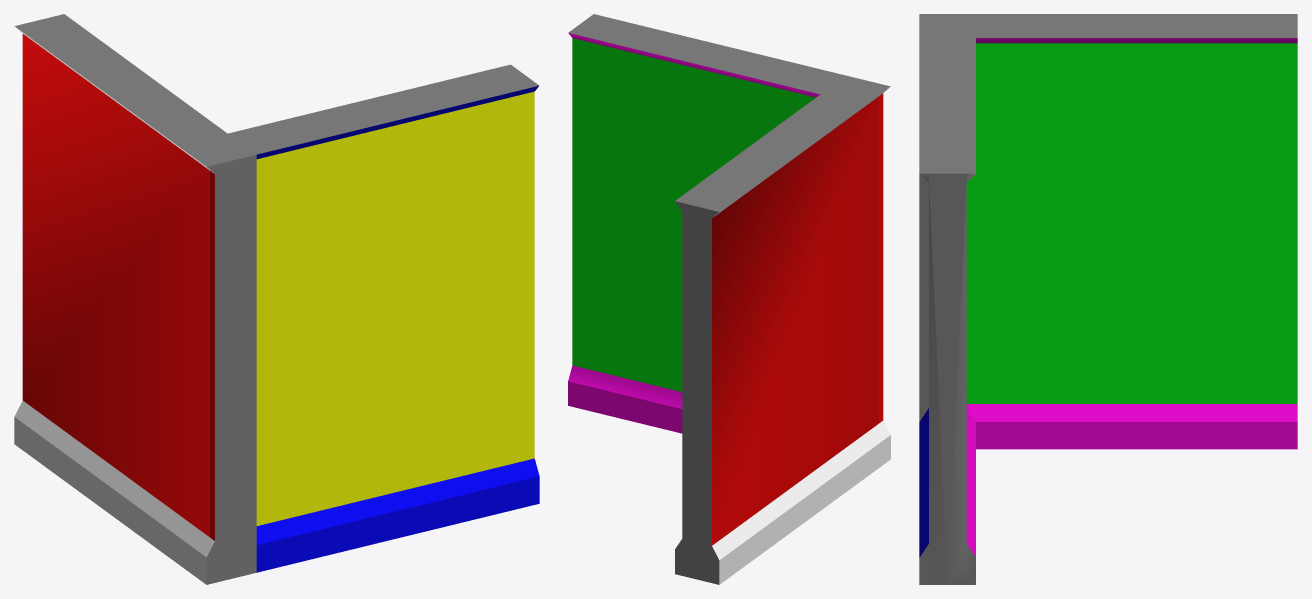
File: InnerFlatHalfEdgedLeft2.FBX
3 views of the same model, side by side, from view 1: azimuth 30°, elevation 25°; view 2: azimuth 150°, elevation 25°; view 3: azimuth 270°, elevation 25° (orthographic). The views are drawn at different scales.
Parts seen in each view (by area): view 1: ModularWallInnerFlat001; view 2: ModularWallInnerFlat001; view 3: ModularWallInnerFlat001.
Boxes of the visible parts, box(x1,y1,x2,y2) form: ModularWallInnerFlat001: box(14, 14, 539, 584); ModularWallInnerFlat001: box(568, 14, 890, 584); ModularWallInnerFlat001: box(919, 14, 1297, 584).
Size of the model in its own units: 100 by 120 by 100.
